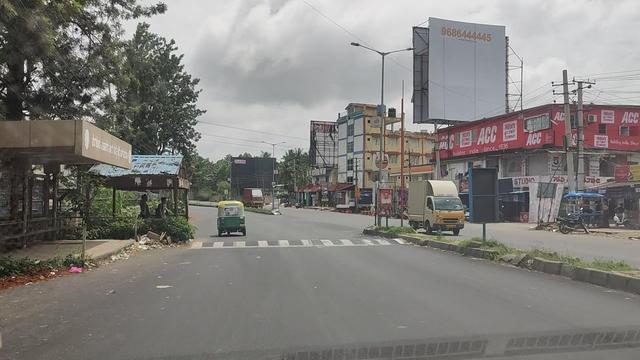LMV: (217, 201, 245, 233)
SpeedBump: (192, 236, 410, 252)
